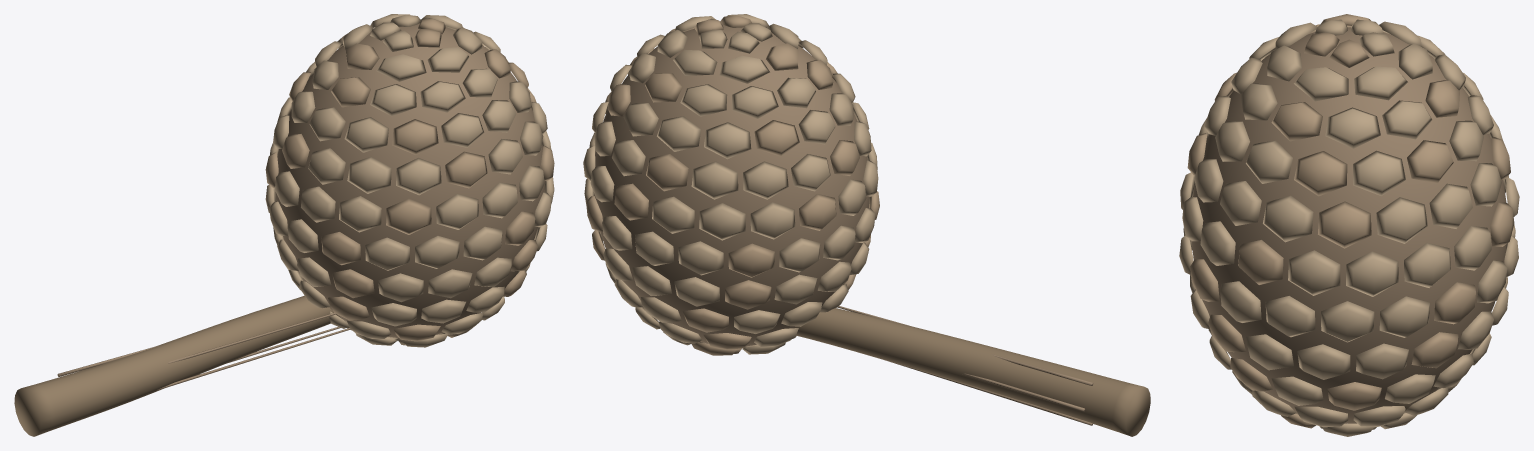
Rendered from araucaria-mirabilis.glb.
The picture shows the model from 3 angles, left to right: view 1: azimuth 30°, elevation 25°; view 2: azimuth 150°, elevation 25°; view 3: azimuth 270°, elevation 25°; orthographic projection. The views are drawn at different scales.
Visible parts, largest first — view 1: original-mosaic-polygonal-cone-scales, rounded-preserved-cone-core, one-short-supporting-twig-and-attached-pedicel; view 2: original-mosaic-polygonal-cone-scales, rounded-preserved-cone-core, one-short-supporting-twig-and-attached-pedicel; view 3: original-mosaic-polygonal-cone-scales, rounded-preserved-cone-core.
Part boxes in pixels (bbox=[...]): original-mosaic-polygonal-cone-scales: bbox=[265, 14, 554, 347]; rounded-preserved-cone-core: bbox=[275, 23, 545, 337]; one-short-supporting-twig-and-attached-pedicel: bbox=[14, 295, 350, 436]; original-mosaic-polygonal-cone-scales: bbox=[583, 14, 879, 355]; rounded-preserved-cone-core: bbox=[593, 24, 869, 346]; one-short-supporting-twig-and-attached-pedicel: bbox=[794, 306, 1150, 436]; original-mosaic-polygonal-cone-scales: bbox=[1179, 14, 1519, 436]; rounded-preserved-cone-core: bbox=[1192, 27, 1506, 423].
Size of the model in its own units: 0.1651 by 0.0944 by 0.0752.
